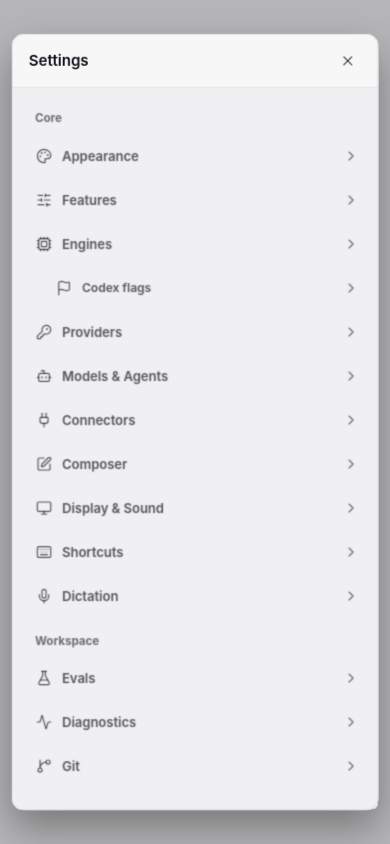
SettingsView mobile layout › uses a master/detail flow on narrow mobile widths
The width and height of the screenshot is (390, 844).
Check: the text "Sections" is not shown
Check: the 1st element with class "ds-panel-nav-item-disclosure" is shown, box [342, 147, 358, 163]
Click the button "Display & Sound" at x=113, y=507, box [25, 488, 365, 526]
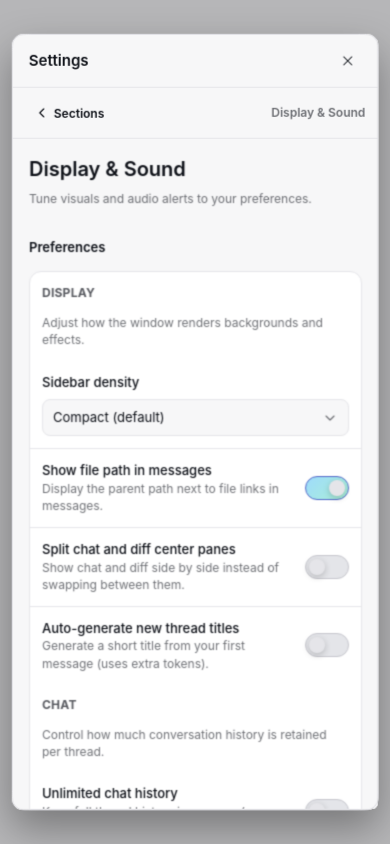
Check: the button with aria-label "Back to settings sections" is shown
Check: the text "Display & Sound" is shown, box [271, 104, 365, 122]
Click the button with aria-label "Back to settings sections" at x=69, y=113, box [25, 98, 113, 128]
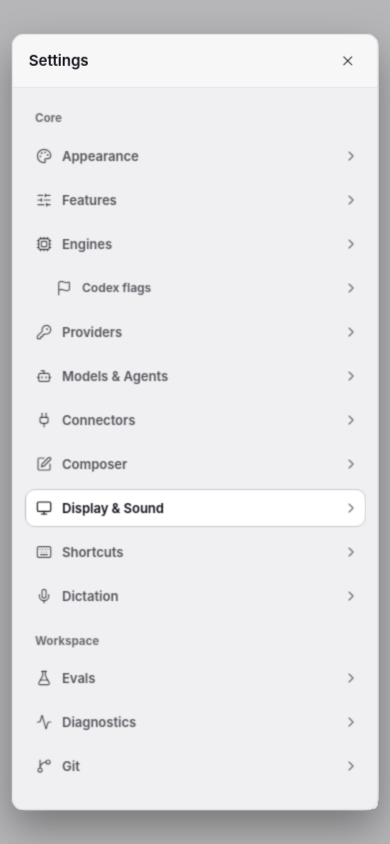
Check: the button "Sections" is gone
